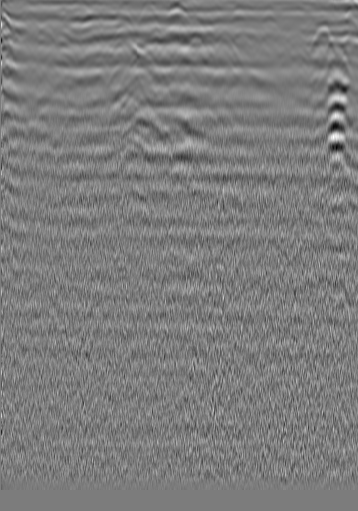가스: (118, 123, 148, 157)
상수: (312, 20, 332, 40)
오수: (26, 26, 46, 46)
우수: (186, 28, 206, 48)
